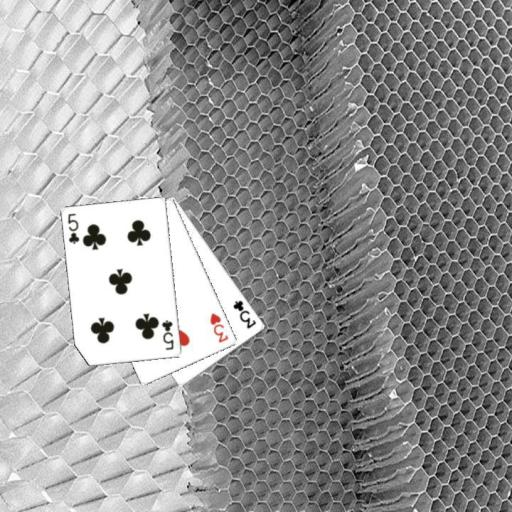3C: (231, 297, 258, 331)
3H: (207, 310, 230, 344)
5C: (159, 317, 176, 351), (65, 211, 81, 246)
